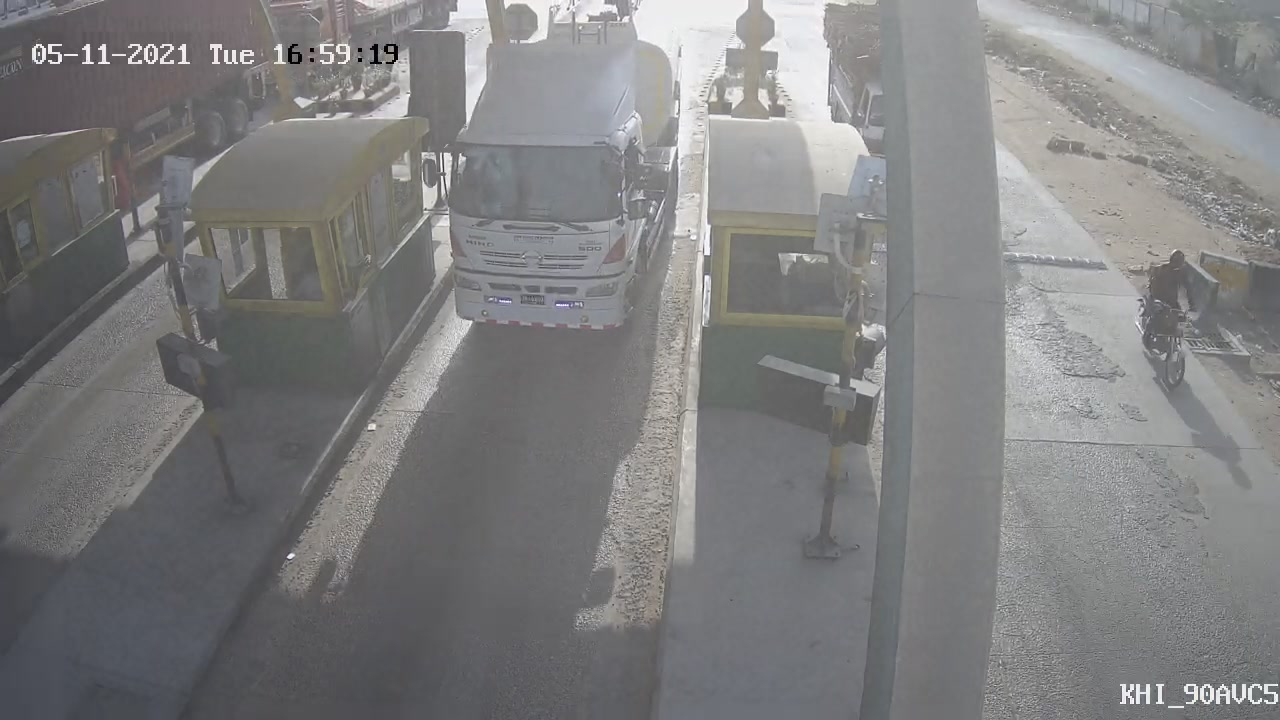F6: (399, 1, 700, 356)
